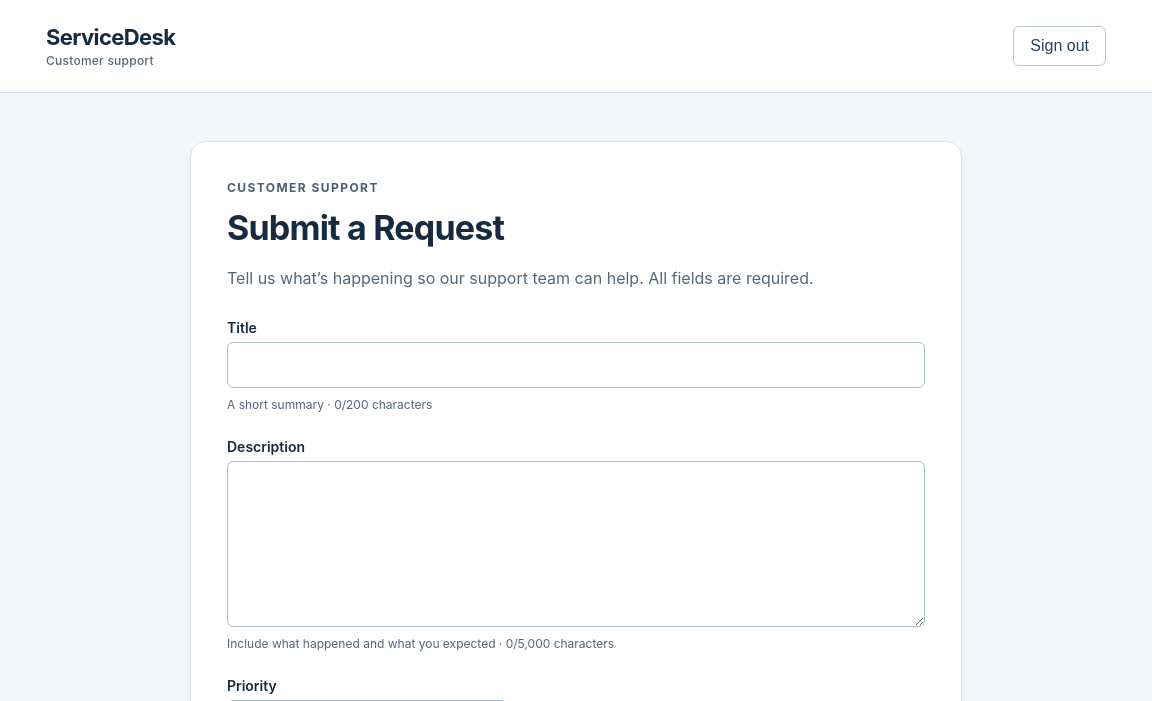
it: customer request submission › handles a network failure safely without claiming success
Expected: the heading "Submit a Request" is shown, [227, 207, 504, 248]
Type "Printer offline" into the field labelled "Title" at (576, 365), box [227, 342, 925, 388]
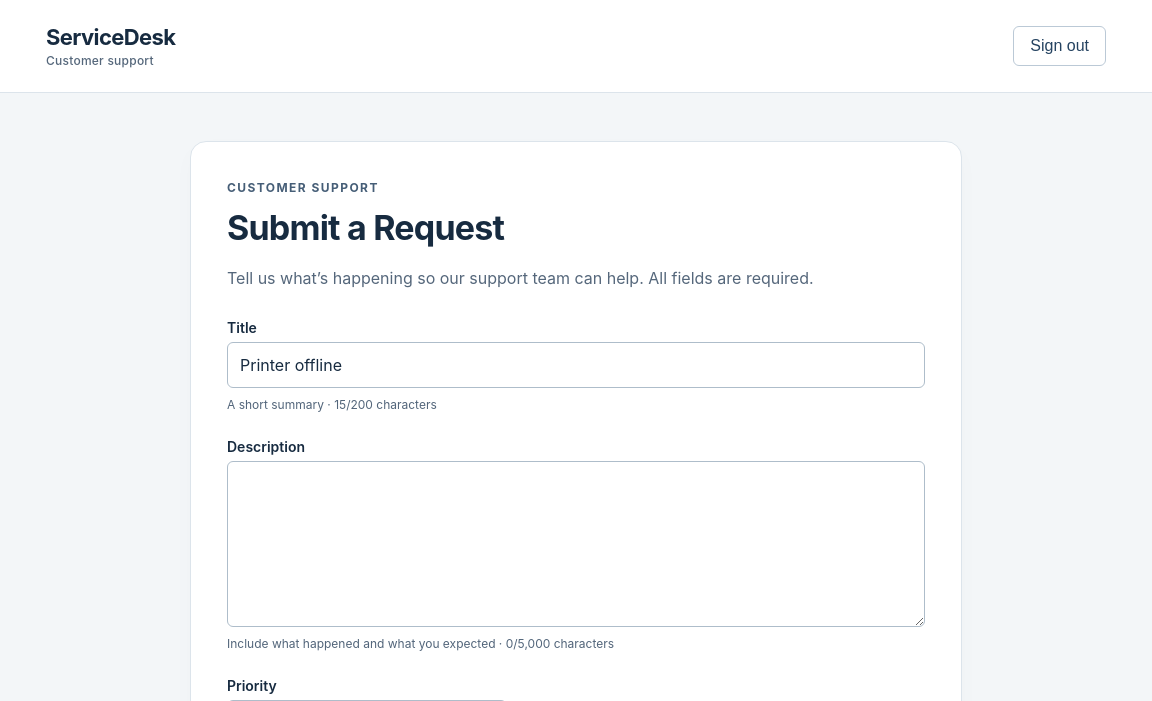
Type "The office printer cannot be reached." into the text box labelled "Description" at (576, 544), box [227, 461, 925, 627]
(page scrolled)
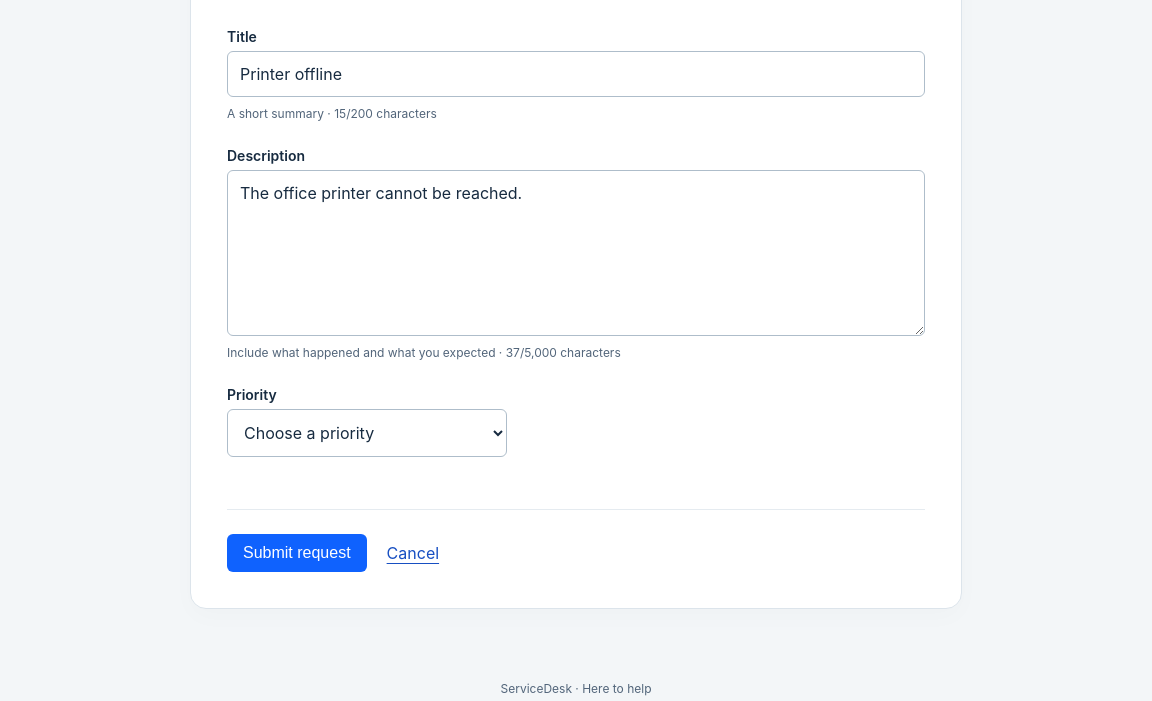
Select "Medium" in the dropdown labelled "Priority" at (367, 433), box [227, 409, 507, 457]
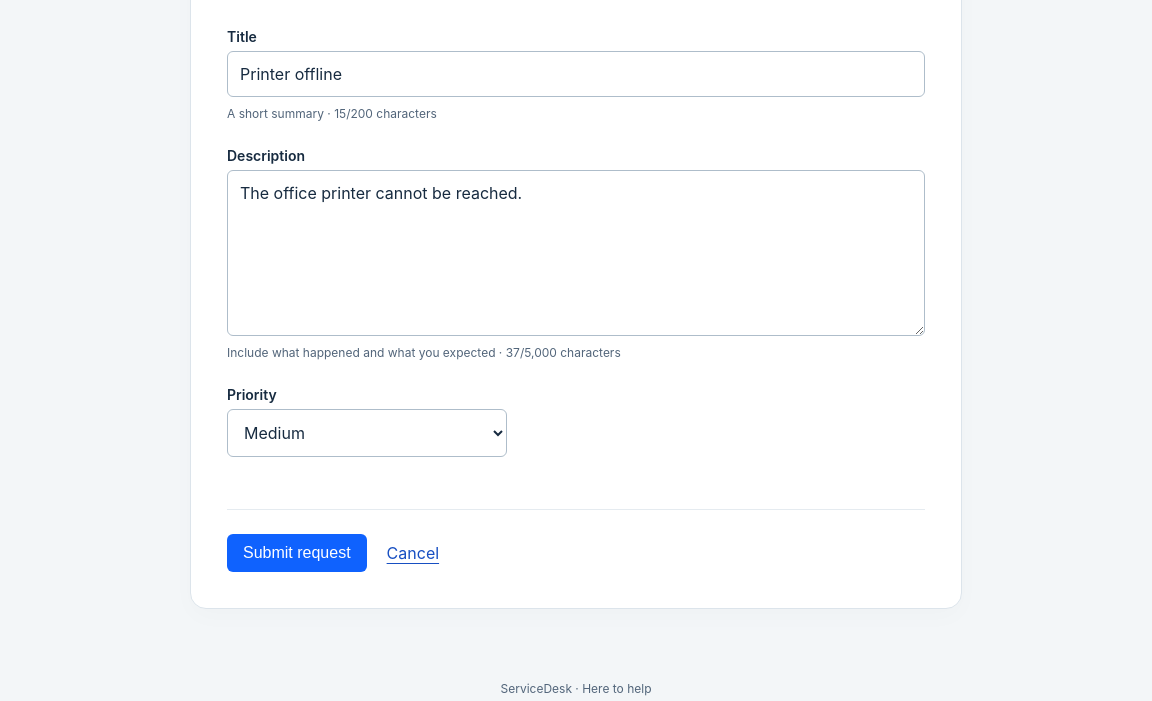
Click the button "Submit request" at (297, 553), box [227, 534, 367, 572]
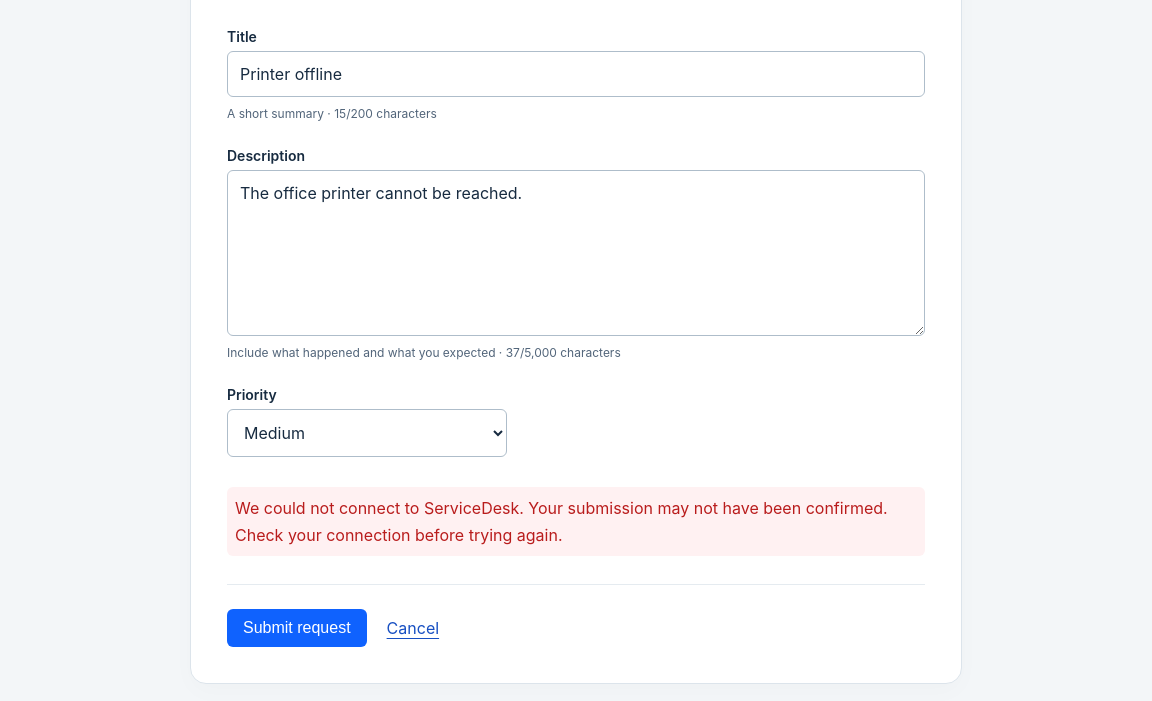
Expected: the message does not show "private network diagnostic", [227, 487, 925, 556]
Expected: the message shows "We could not connect to ServiceDesk.", [235, 498, 888, 545]
